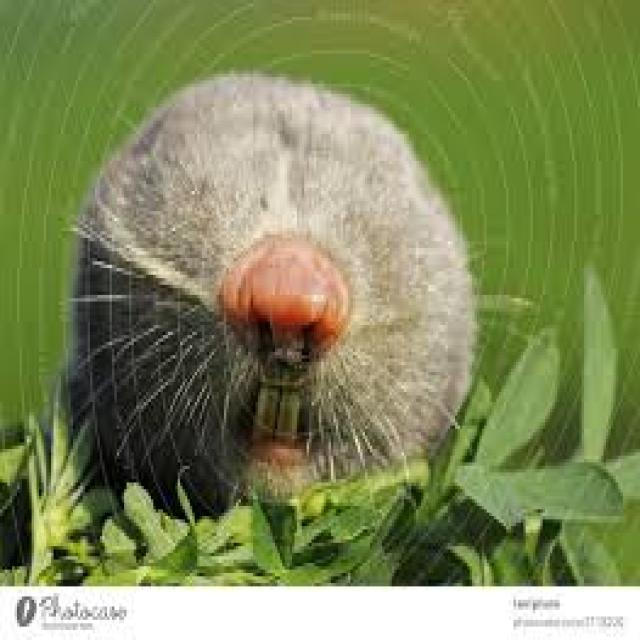rat: (53, 67, 482, 519)
